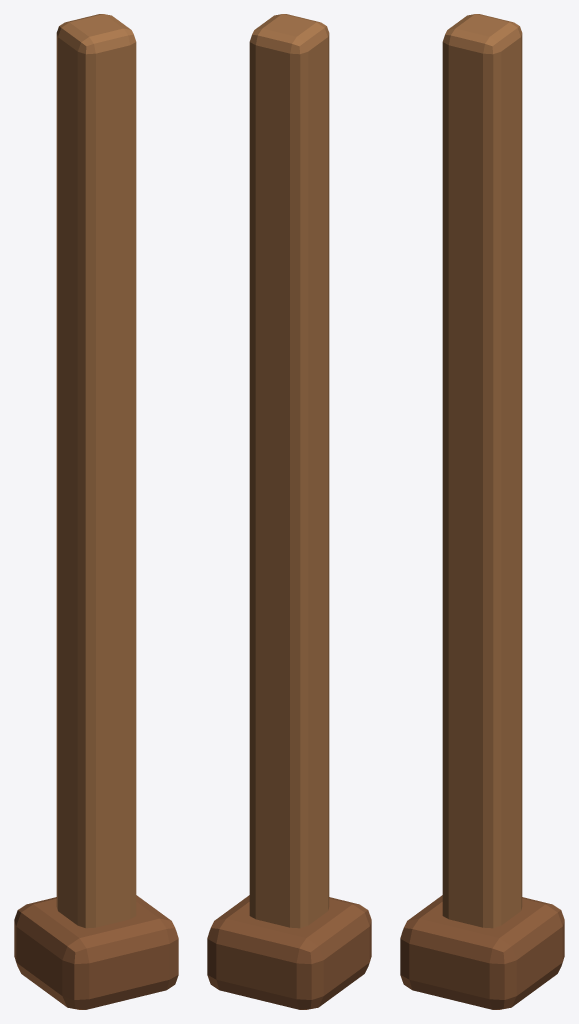
File: bang.glb
3 views of the same model, side by side, from view 1: azimuth 30°, elevation 25°; view 2: azimuth 150°, elevation 25°; view 3: azimuth 330°, elevation 25° (orthographic).
Parts seen in each view (by area): view 1: bang-0, bang-1; view 2: bang-0, bang-1; view 3: bang-0, bang-1.
Boxes of the visible parts, <box> form: bang-0: <box>56,14,136,928</box>; bang-1: <box>14,895,178,1009</box>; bang-0: <box>249,14,329,928</box>; bang-1: <box>207,895,371,1009</box>; bang-0: <box>442,14,522,928</box>; bang-1: <box>400,895,564,1009</box>.
Size of the model in its own units: 0.2 by 1.6 by 0.2.
